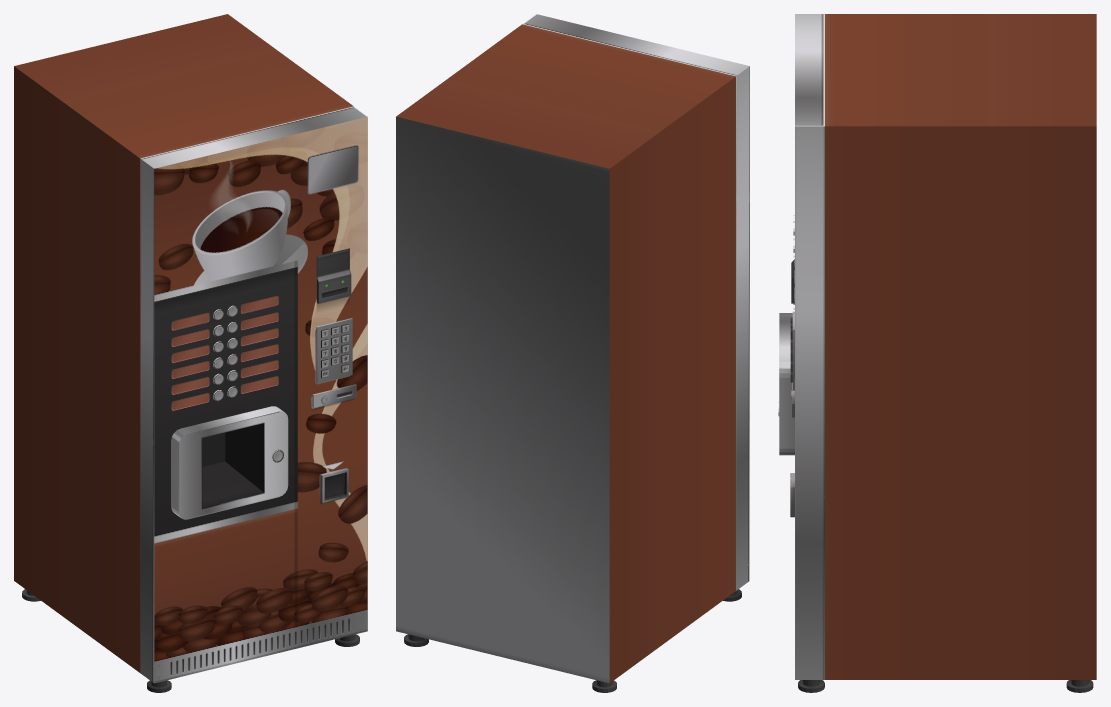
The model's file is coffee_machine.fbx.
3 renders of one model, left to right at view 1: azimuth 30°, elevation 25°; view 2: azimuth 150°, elevation 25°; view 3: azimuth 270°, elevation 25°, orthographic. The views are drawn at different scales.
Parts seen in each view (by area): view 1: Coffee; view 2: Coffee; view 3: Coffee.
Boxes of the visible parts, x1,y1,x2,y2 form: Coffee: [14, 14, 367, 692]; Coffee: [396, 14, 749, 692]; Coffee: [778, 14, 1096, 692].
Bounding box in the file's own units: 176 × 415 × 211.
